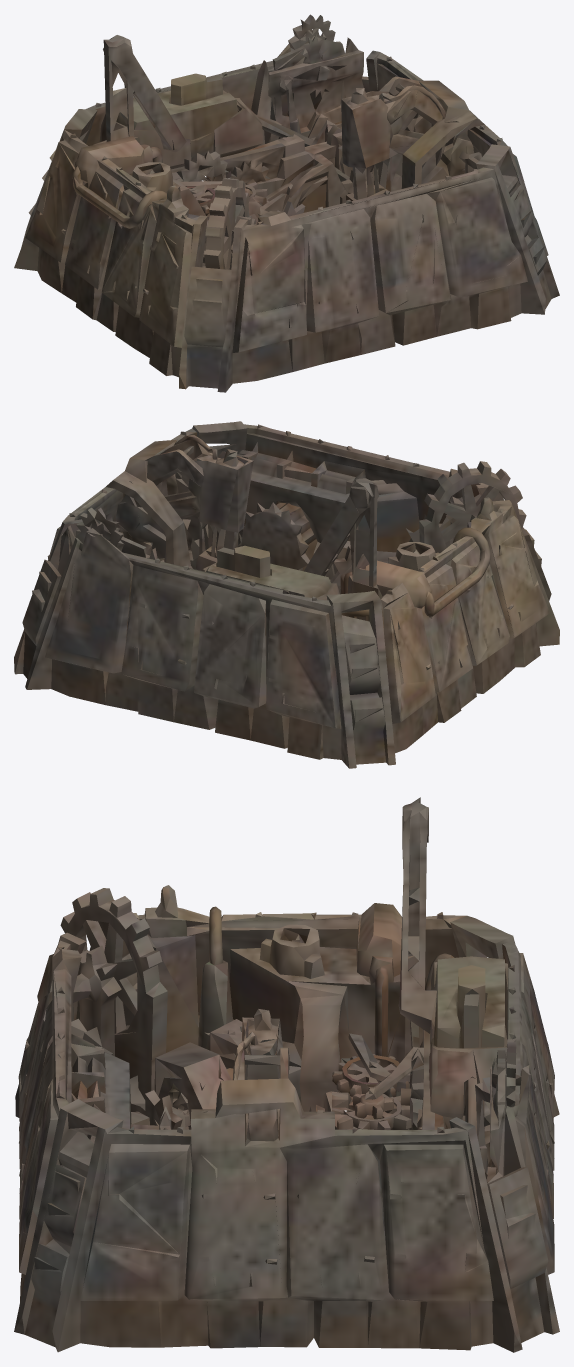
Rendered from assembling-machine-1.glb.
The picture shows the model from 3 angles, top to bottom: view 1: azimuth 30°, elevation 25°; view 2: azimuth 150°, elevation 25°; view 3: azimuth 270°, elevation 25°; orthographic projection. The views are drawn at different scales.
Visible parts, largest first — view 1: body, anim_gear_am1_e; view 2: body; view 3: body, anim_gear_am1_e, anim_gear_am1_w.
Boxes of the visible parts, x1,y1,x2,y2 form: body: (14, 14, 559, 392); anim_gear_am1_e: (203, 171, 268, 205); body: (14, 421, 559, 768); body: (14, 797, 559, 1352); anim_gear_am1_e: (332, 1088, 412, 1129); anim_gear_am1_w: (332, 1054, 411, 1099).
Size of the model in its own units: 2.73 by 1.64 by 2.43.
1 material, 1 textured.
